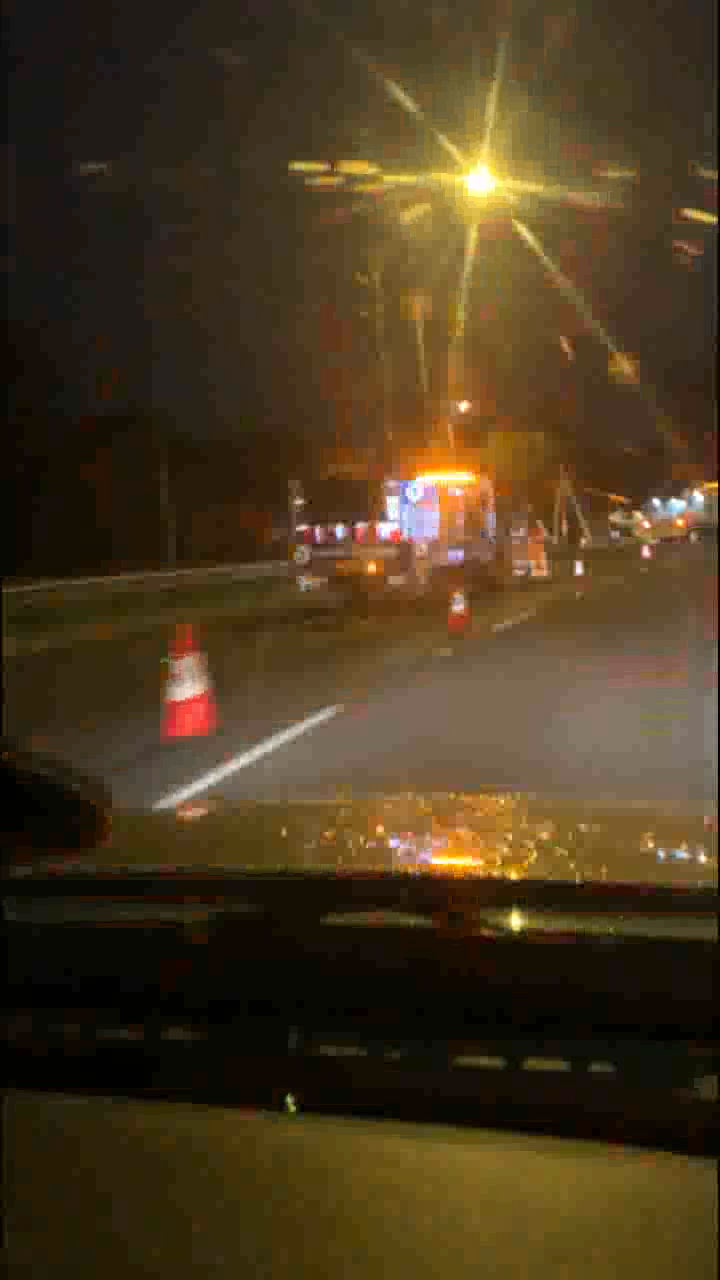person: (516, 507, 552, 580)
road cone: (164, 621, 224, 734)
truck: (293, 469, 514, 596)
